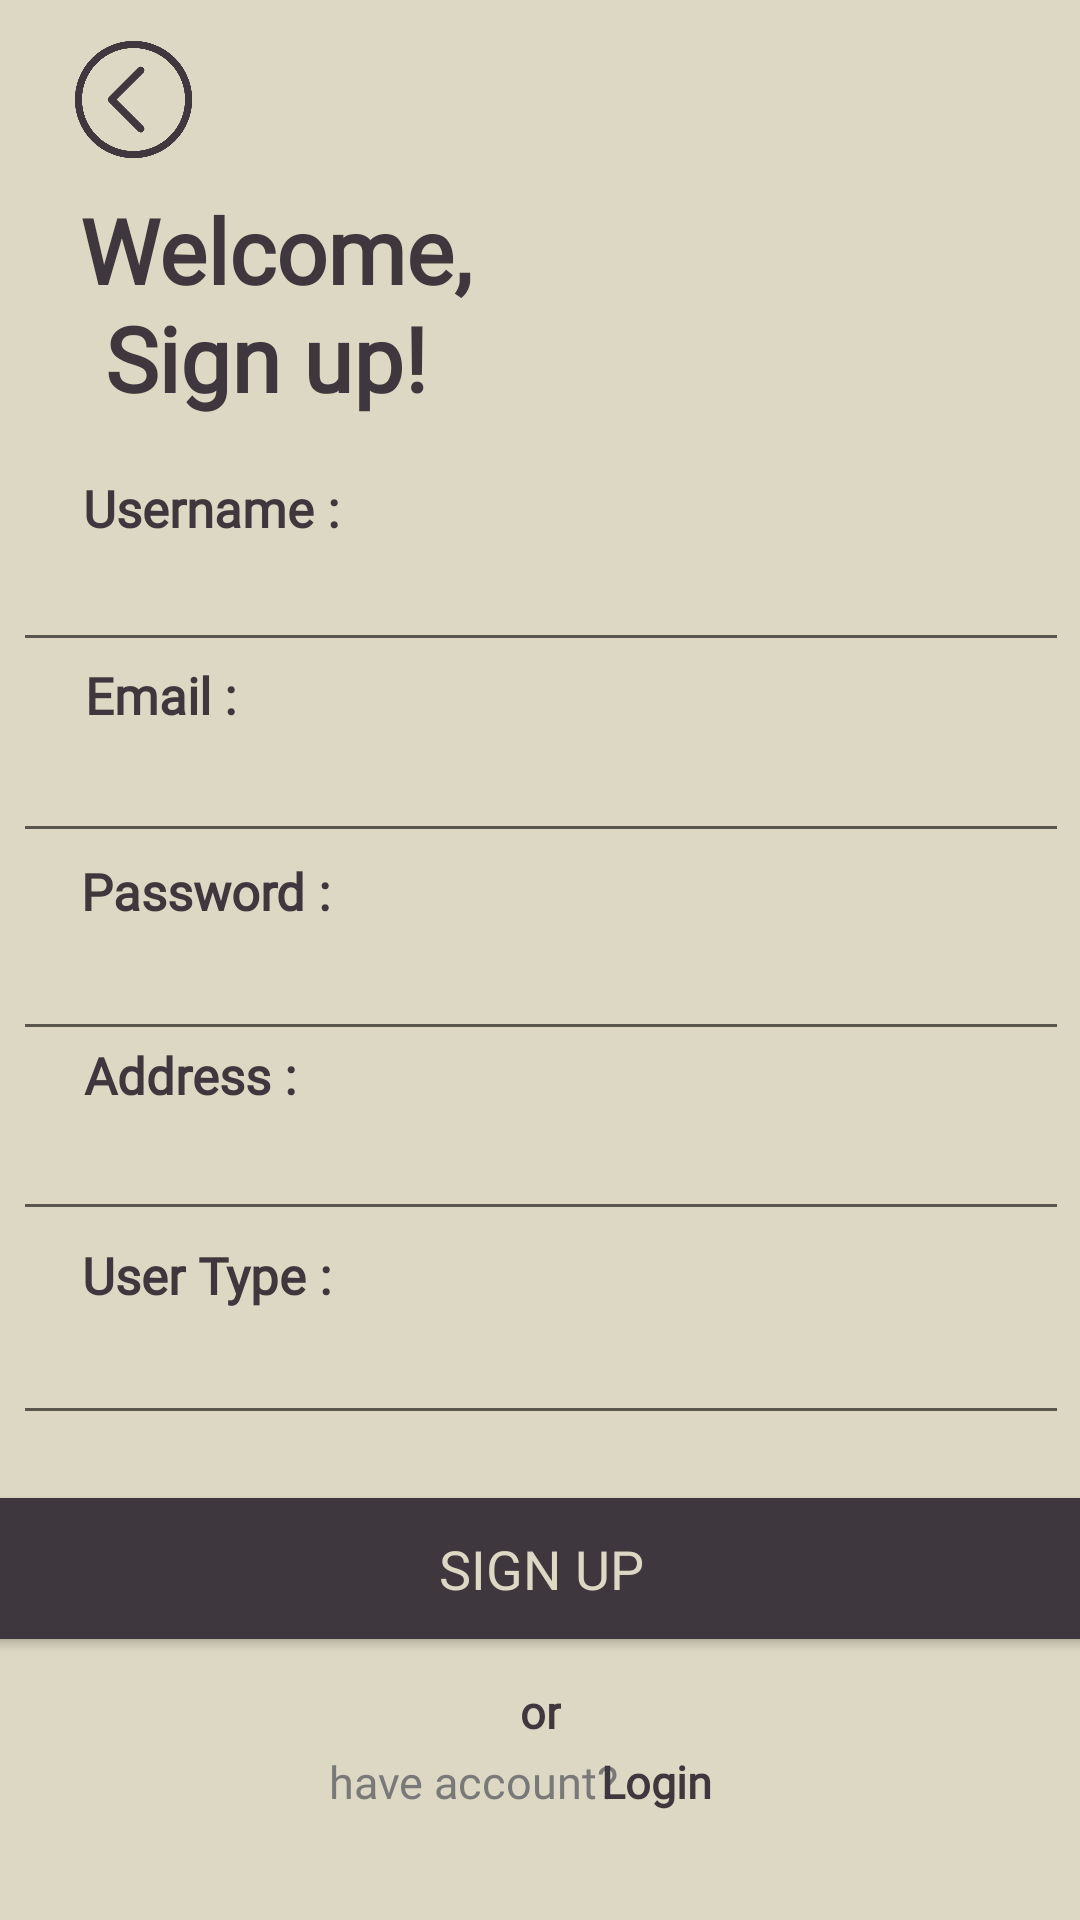

Icons on this 1080w x 1920h Android screen, each with its box as BBox(x1, y1, x2, y2):
backbuttn: BBox(75, 41, 192, 158)
